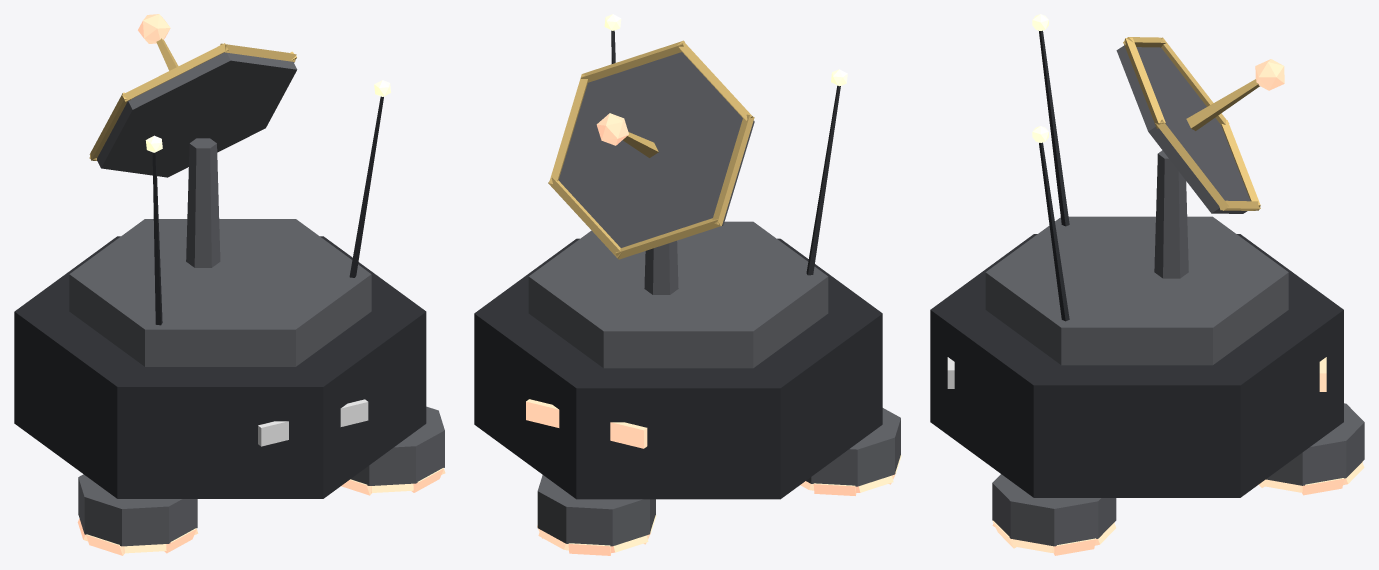
The model's file is Aegis_Override.fbx.
The picture shows the model from 3 angles, left to right: view 1: azimuth 30°, elevation 25°; view 2: azimuth 150°, elevation 25°; view 3: azimuth 270°, elevation 25°; orthographic projection.
Visible parts, largest first — view 1: OVR_Body, OVR_Deck, OVR_Plate, OVR_Pad1, OVR_Mast, OVR_Pad2, OVR_PlateRim, OVR_Team, OVR_Pad1_Glow, OVR_Whip0, OVR_Whip1, OVR_Pad2_Glow (+1 smaller); view 2: OVR_Body, OVR_Deck, OVR_Plate, OVR_PlateRim, OVR_Pad0, OVR_Pad1, OVR_Mast, OVR_Visor, OVR_Whip1, OVR_Pad0_Glow, OVR_Pad1_Glow, OVR_EmitterTip; view 3: OVR_Body, OVR_Deck, OVR_Plate, OVR_Pad2, OVR_PlateRim, OVR_Pad0, OVR_Mast, OVR_Whip1, OVR_Whip0, OVR_Pad2_Glow, OVR_Emitter, OVR_Pad0_Glow (+1 smaller).
Boxes of the visible parts, x1,y1,x2,y2 form: OVR_Body: (14, 236, 426, 498); OVR_Deck: (69, 219, 371, 366); OVR_Plate: (97, 52, 297, 177); OVR_Pad1: (78, 474, 197, 546); OVR_Mast: (186, 138, 220, 267); OVR_Pad2: (351, 406, 444, 485); OVR_PlateRim: (89, 43, 296, 160); OVR_Team: (258, 399, 368, 446); OVR_Pad1_Glow: (77, 518, 198, 555); OVR_Whip0: (349, 96, 383, 277); OVR_Whip1: (152, 152, 162, 325); OVR_Pad2_Glow: (341, 468, 445, 495); OVR_Body: (474, 238, 882, 499); OVR_Deck: (528, 221, 828, 368); OVR_Plate: (558, 52, 754, 247); OVR_PlateRim: (548, 40, 754, 259); OVR_Pad0: (537, 475, 655, 546); OVR_Pad1: (806, 408, 900, 486); OVR_Mast: (644, 240, 678, 294); OVR_Visor: (526, 399, 647, 448); OVR_Whip1: (806, 85, 840, 275); OVR_Pad0_Glow: (537, 515, 656, 555); OVR_Pad1_Glow: (800, 455, 901, 495); OVR_EmitterTip: (596, 113, 628, 145); OVR_Body: (930, 234, 1343, 497); OVR_Deck: (985, 216, 1288, 365); OVR_Plate: (1116, 45, 1250, 213); OVR_Pad2: (992, 474, 1116, 546); OVR_PlateRim: (1123, 37, 1260, 210); OVR_Pad0: (1266, 403, 1364, 485); OVR_Mast: (1154, 150, 1188, 278); OVR_Whip1: (1039, 30, 1069, 226); OVR_Whip0: (1039, 142, 1069, 321); OVR_Pad2_Glow: (992, 520, 1115, 555); OVR_Emitter: (1186, 79, 1259, 130); OVR_Pad0_Glow: (1258, 461, 1364, 495).
Bounding box in the file's own units: 0.5957 × 0.6957 × 0.63.
